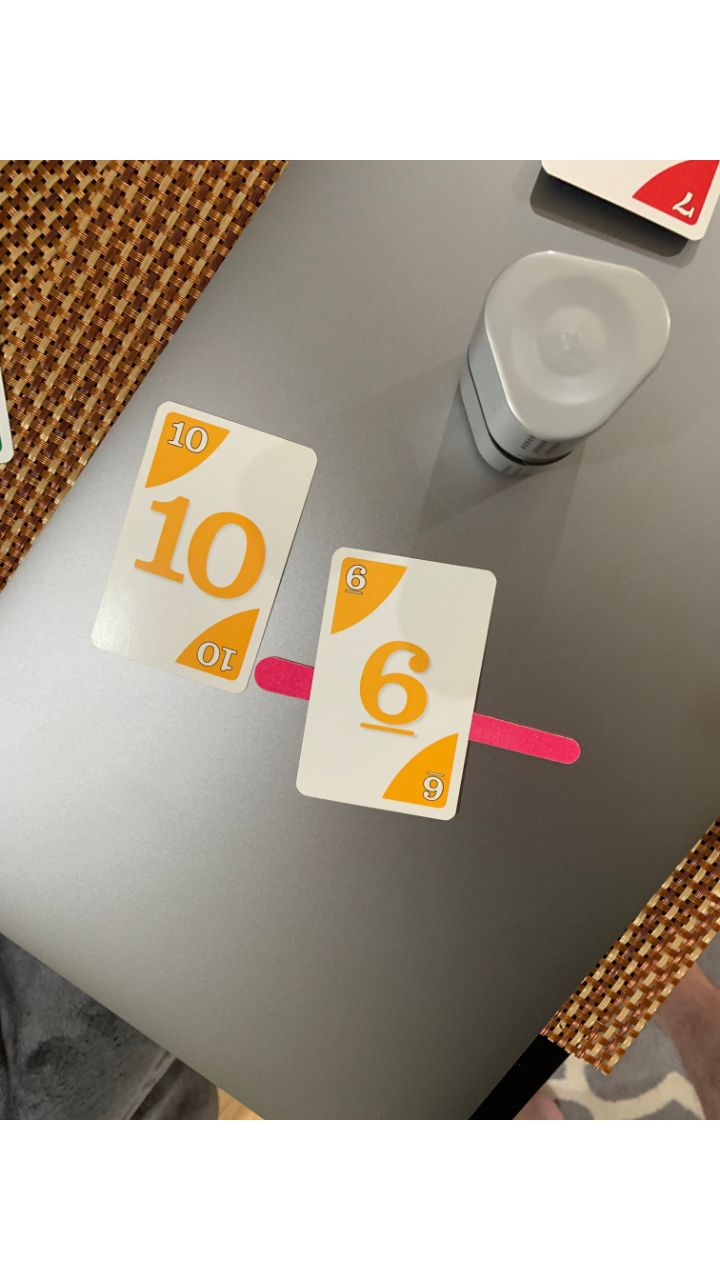six: (287, 545, 496, 818)
ten: (95, 403, 315, 693)
